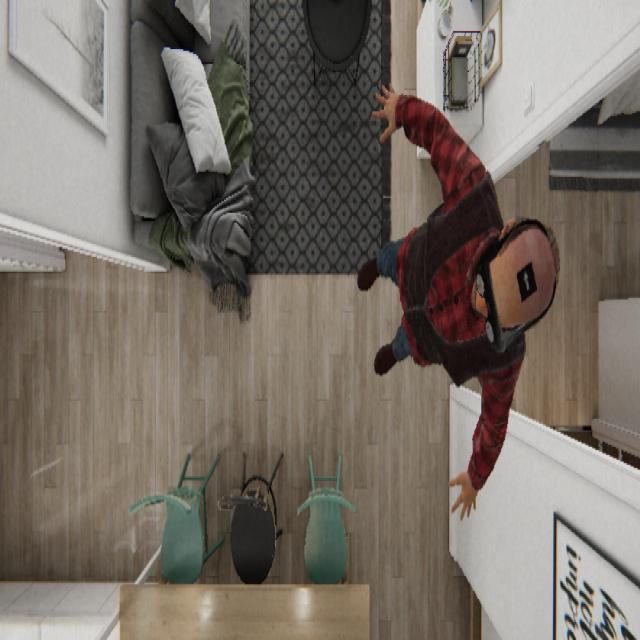Human: (356, 80, 560, 521)
UnityLogo: (486, 215, 560, 338), (516, 257, 538, 303)
